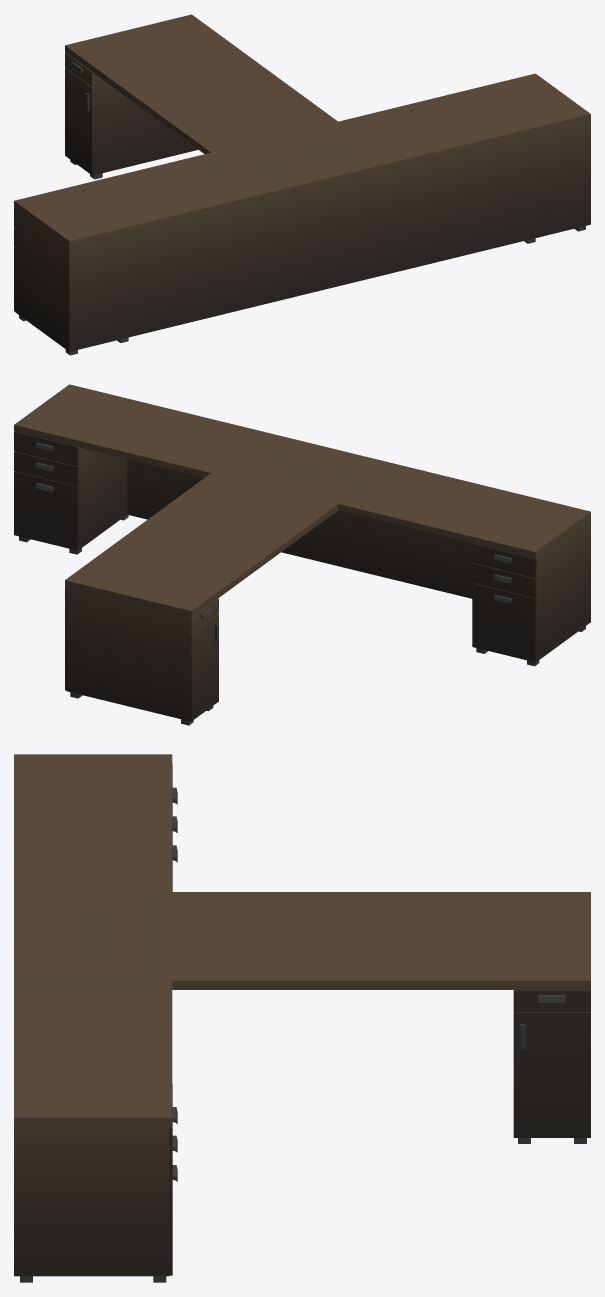
File: Desk_Joined_C.fbx
The picture shows the model from 3 angles, top to bottom: view 1: azimuth 30°, elevation 25°; view 2: azimuth 150°, elevation 25°; view 3: azimuth 270°, elevation 25°; orthographic projection. The views are drawn at different scales.
Visible parts, largest first — view 1: Desk_Joined_C; view 2: Desk_Joined_C; view 3: Desk_Joined_C.
Boxes of the visible parts, x1,y1,x2,y2 form: Desk_Joined_C: (14,14,590,355); Desk_Joined_C: (14,384,590,725); Desk_Joined_C: (14,754,590,1282).
Size of the model in its own units: 328 by 70 by 220.
